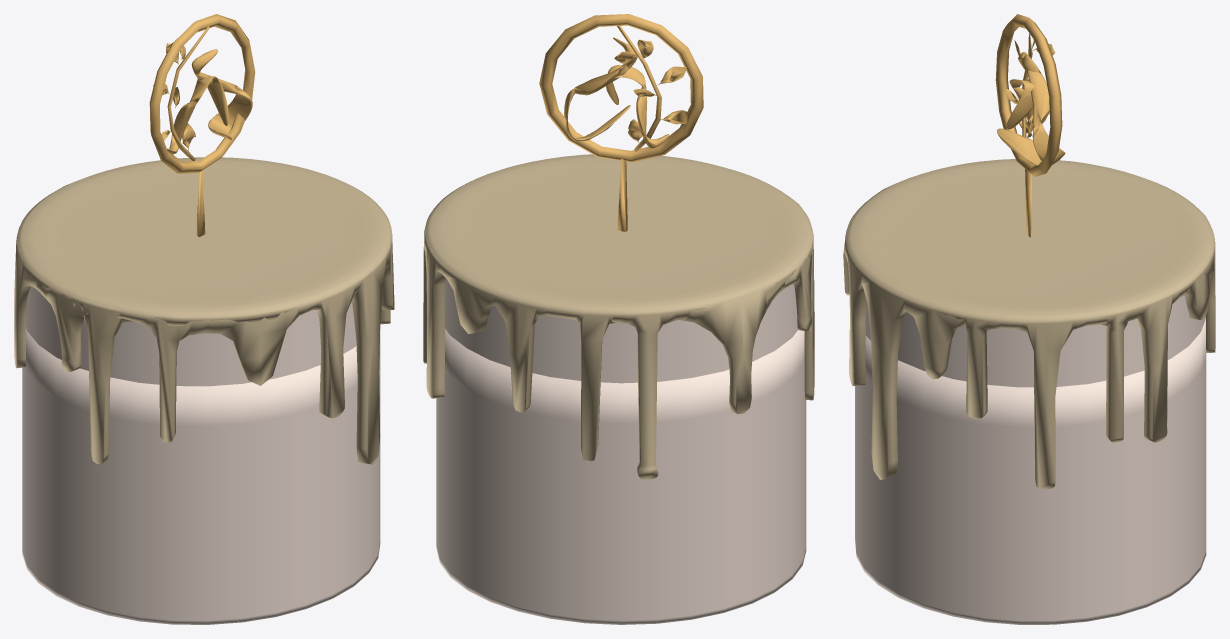
Rendered from 1-tier-white-ganache-ring.glb.
The picture shows the model from 3 angles, left to right: view 1: azimuth 30°, elevation 25°; view 2: azimuth 150°, elevation 25°; view 3: azimuth 270°, elevation 25°; orthographic projection.
Visible parts, largest first — view 1: Cylinder.019, tHE ICING, Cylinder.017; view 2: Cylinder.019, tHE ICING, Cylinder.017; view 3: Cylinder.019, tHE ICING, Cylinder.017.
Boxes of the visible parts, <box> form: Cylinder.019: <box>22,286,380,624</box>; tHE ICING: <box>14,157,394,464</box>; Cylinder.017: <box>149,14,255,237</box>; Cylinder.019: <box>436,278,806,624</box>; tHE ICING: <box>423,154,814,479</box>; Cylinder.017: <box>539,14,703,232</box>; Cylinder.019: <box>855,295,1206,624</box>; tHE ICING: <box>843,159,1215,489</box>; Cylinder.017: <box>995,14,1065,237</box>.
Size of the model in its own units: 2.8 by 4.23 by 2.71.
